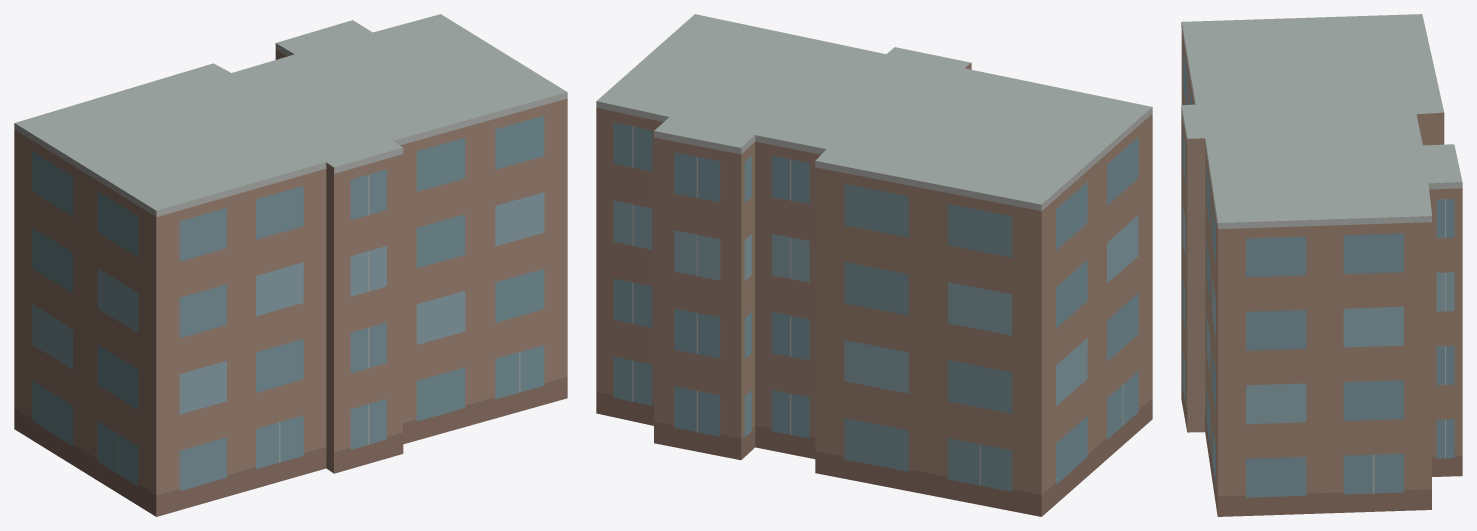
The model's file is survey-upis-32756442.glb.
The picture shows the model from 3 angles, left to right: view 1: azimuth 30°, elevation 25°; view 2: azimuth 150°, elevation 25°; view 3: azimuth 270°, elevation 25°; orthographic projection. The views are drawn at different scales.
Visible parts, largest first — view 1: survey-upis-32756442.tmp; view 2: survey-upis-32756442.tmp; view 3: survey-upis-32756442.tmp.
Part boxes in pixels (x1,y1,x2,y2): survey-upis-32756442.tmp: [14, 14, 567, 516]; survey-upis-32756442.tmp: [596, 14, 1152, 516]; survey-upis-32756442.tmp: [1181, 14, 1462, 516].
Size of the model in its own units: 17.87 by 11.7 by 10.16.
